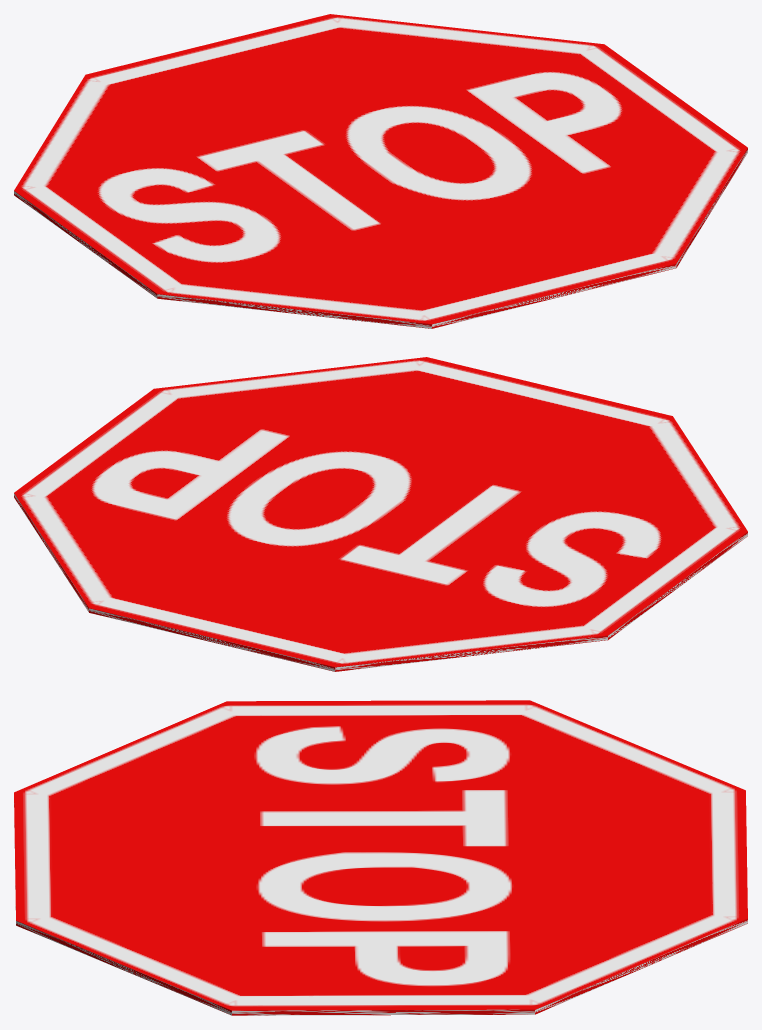
File: stopsign1.obj
3 views of the same model, one above another, from view 1: azimuth 30°, elevation 25°; view 2: azimuth 150°, elevation 25°; view 3: azimuth 270°, elevation 25° (orthographic). The views are drawn at different scales.
Parts seen in each view (by area): view 1: Cylinder.001; view 2: Cylinder.001; view 3: Cylinder.001.
Part boxes in pixels (x1,y1,x2,y2): Cylinder.001: [14, 14, 747, 328]; Cylinder.001: [14, 357, 747, 671]; Cylinder.001: [14, 700, 747, 1015].
Size of the model in its own units: 1.85 by 0.0141 by 1.85.
Materials: 2 (1 with a texture image).
